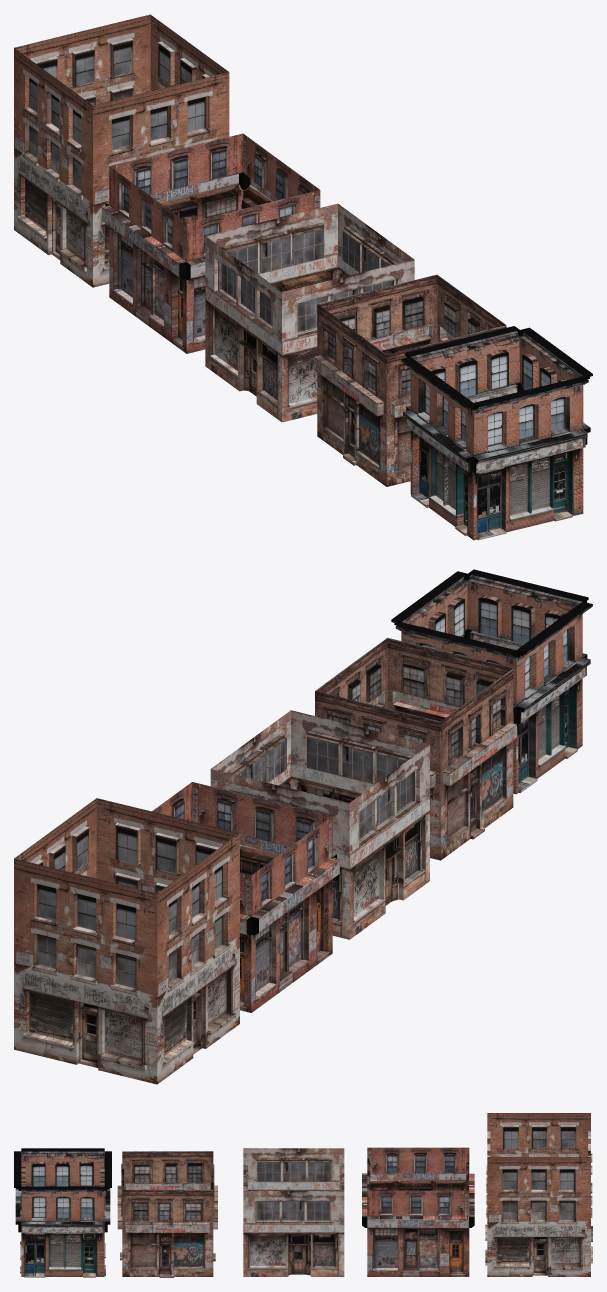
The model's file is brickpack.glb.
3 renders of one model, top to bottom at view 1: azimuth 30°, elevation 25°; view 2: azimuth 150°, elevation 25°; view 3: azimuth 270°, elevation 25°, orthographic. The views are drawn at different scales.
Bounding box in the file's own units: 17.28 × 20 × 87.28.
Materials: 10 (10 with a texture image).
